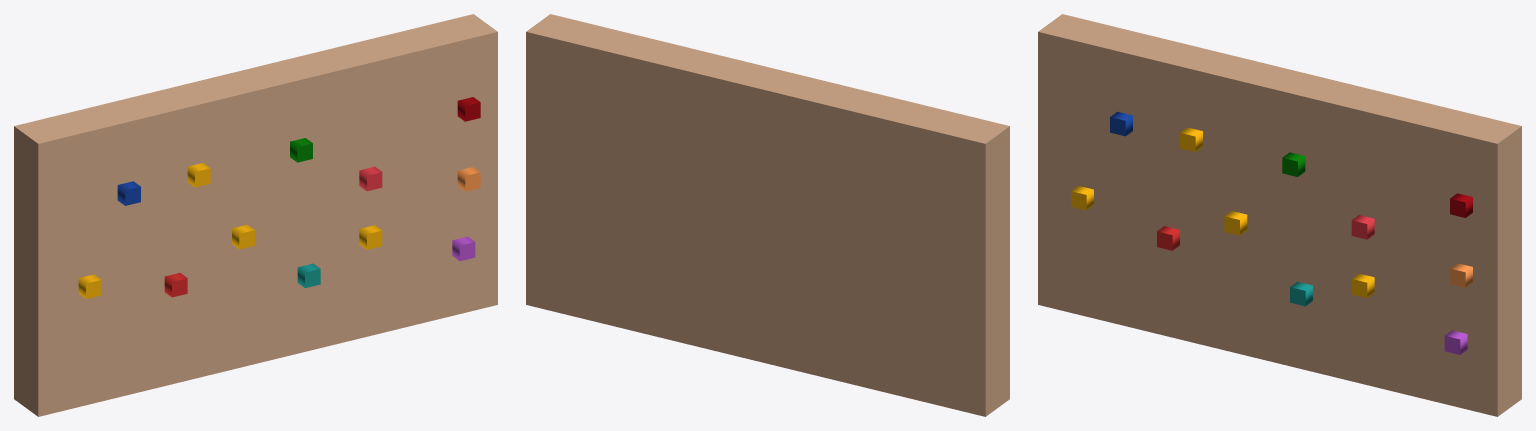
Rendered from SM_Training_Apparatus1.fbx.
3 renders of one model, left to right at view 1: azimuth 30°, elevation 25°; view 2: azimuth 150°, elevation 25°; view 3: azimuth 330°, elevation 25°, orthographic.
Parts seen in each view (by area): view 1: SM_Training_Apparatus1; view 2: SM_Training_Apparatus1; view 3: SM_Training_Apparatus1.
Boxes of the visible parts, x1,y1,x2,y2 form: SM_Training_Apparatus1: (14,14,497,416); SM_Training_Apparatus1: (526,14,1009,416); SM_Training_Apparatus1: (1038,14,1521,416).
Bounding box in the file's own units: 1552 × 881 × 186.
